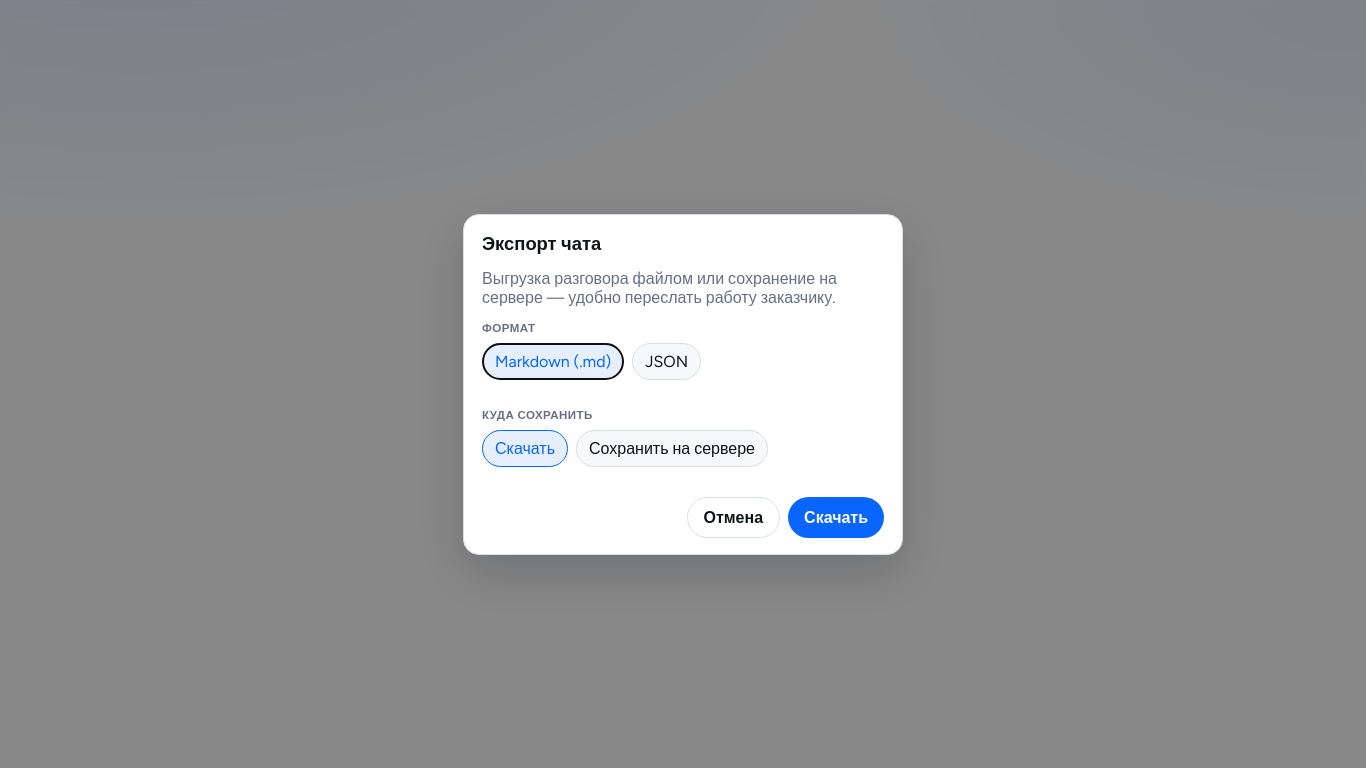
ExportDialog › saves a JSON export to the server and shows the saved path
Click the radio button labelled "JSON".
click(667, 361)  # box 632,342 -> 701,380
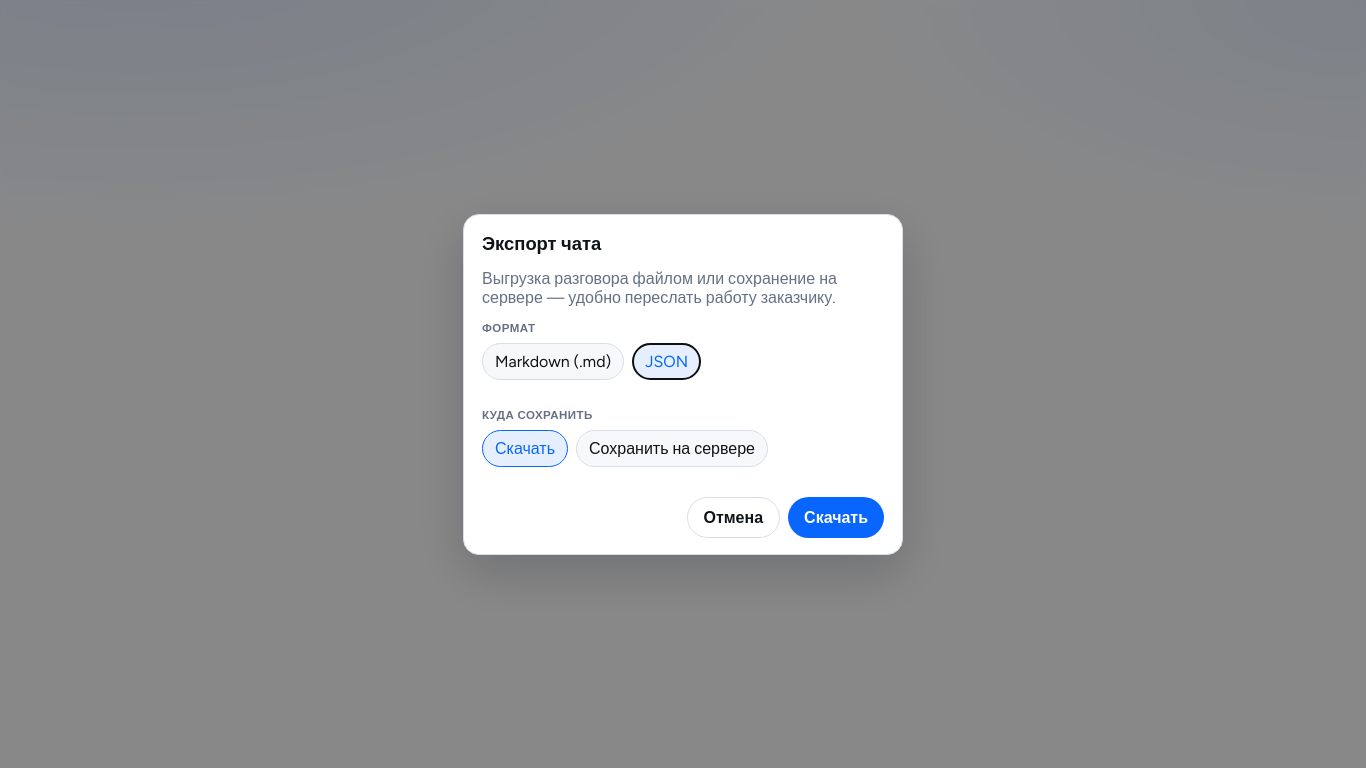
Click the radio button labelled "Сохранить на сервере".
click(672, 448)  # box 576,430 -> 768,466
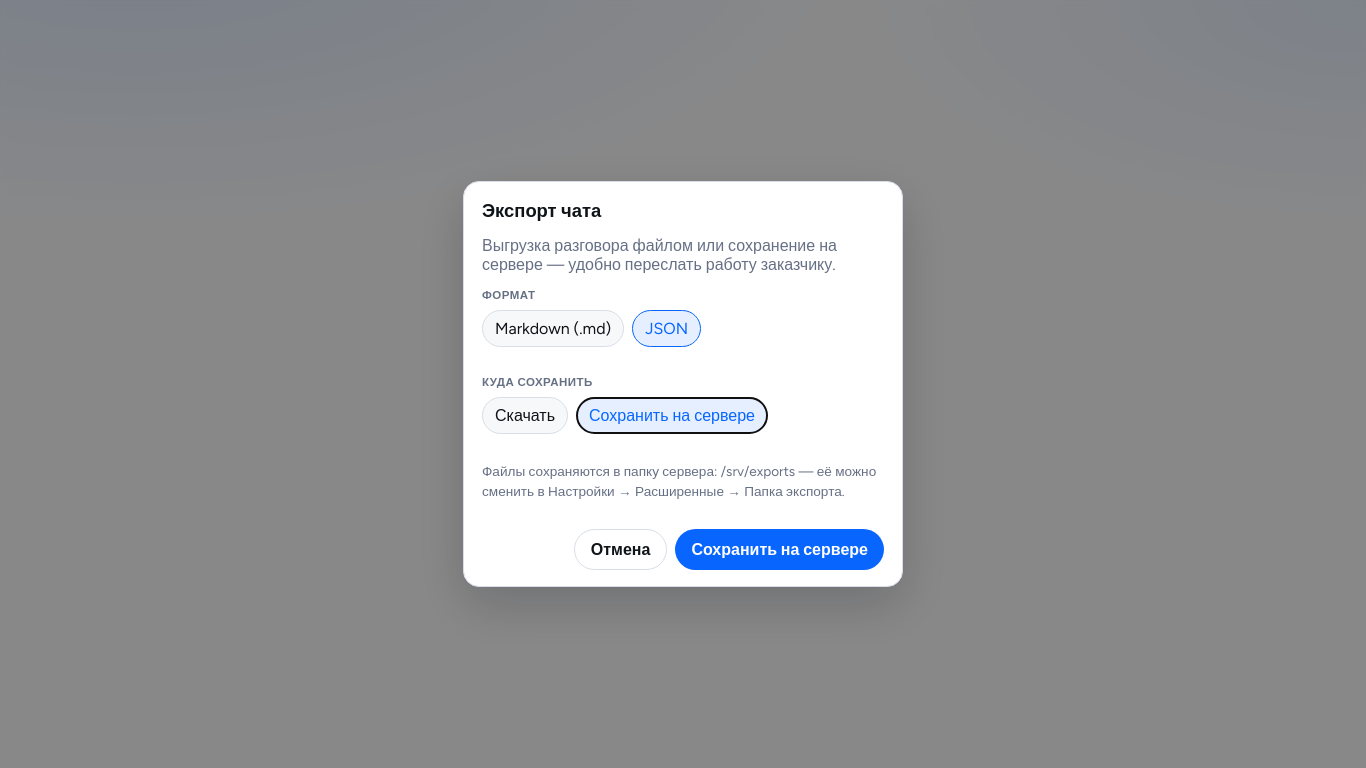
Click the button "Сохранить на сервере".
click(780, 550)  # box 675,529 -> 884,570
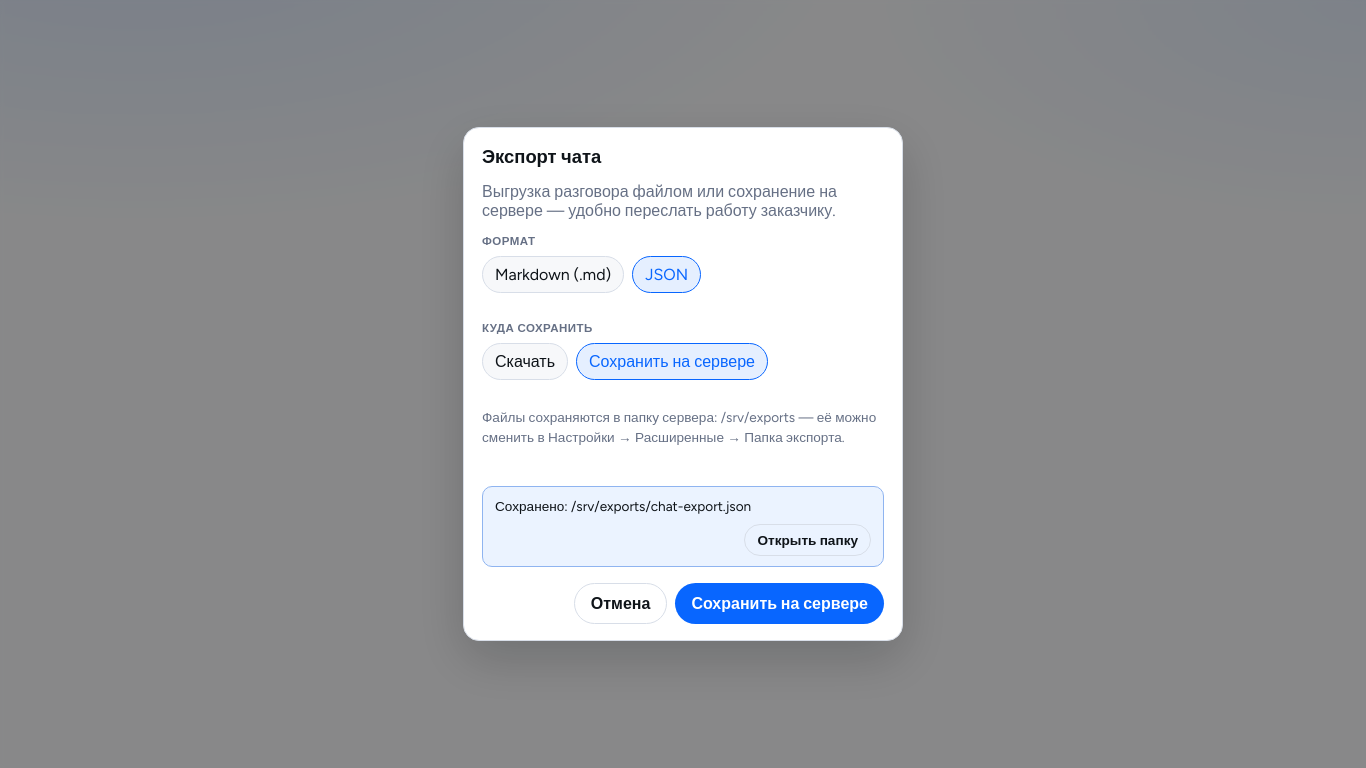
Now the text "Сохранено: /srv/exports/chat-export.json" is shown, box 495,498 -> 751,514
